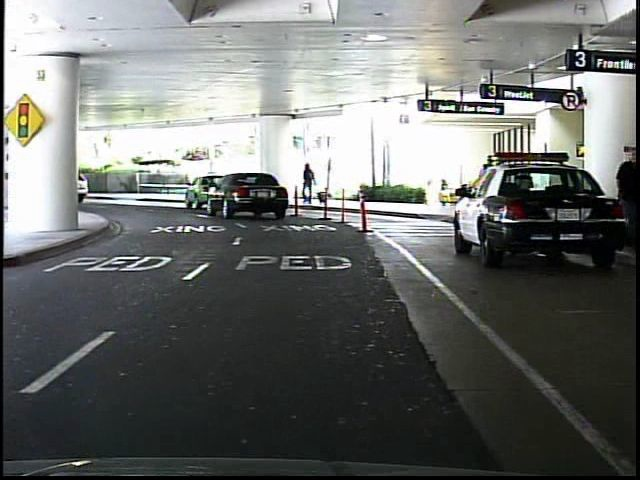person: (614, 142, 637, 247), (300, 161, 324, 207)
